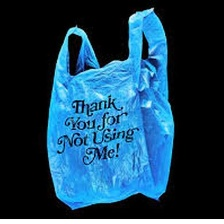plastic_bag: (43, 4, 176, 213)
